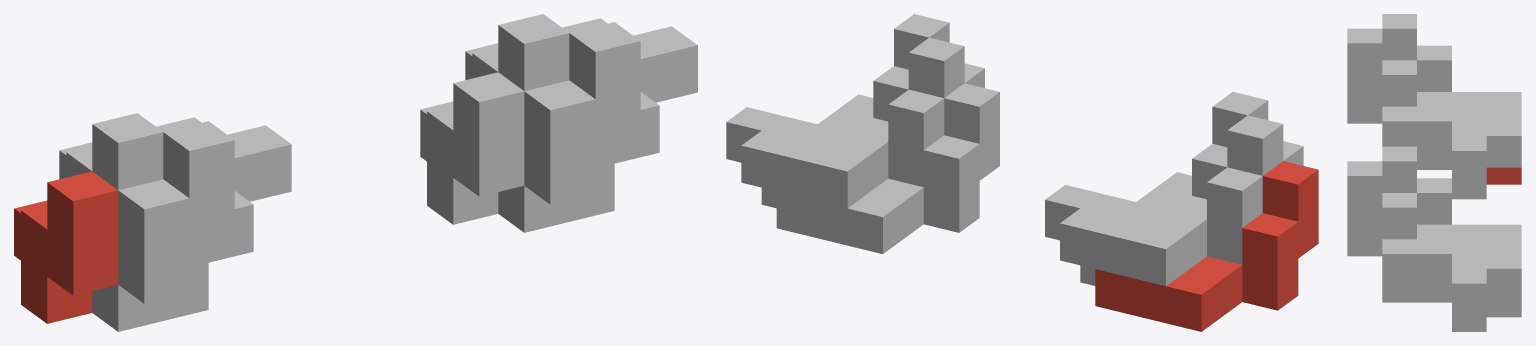
File: tiling.obj
3 views of the same model, side by side, from view 1: azimuth 30°, elevation 25°; view 2: azimuth 150°, elevation 25°; view 3: azimuth 270°, elevation 25° (orthographic). The views are drawn at different scales.
Visible parts, largest first — view 1: copy_1_domain_4, copy_1_domain_8, copy_1_domain_1, copy_1_domain_5, copy_1_domain_2, copy_1_domain_6, copy_1_domain_3, copy_1_domain_7; view 2: copy_1_domain_7, copy_1_domain_3, copy_1_domain_1, copy_1_domain_5, copy_1_domain_4, copy_1_domain_8, copy_1_domain_2, copy_1_domain_6; view 3: copy_1_domain_8, copy_1_domain_4, copy_1_domain_7, copy_1_domain_3, copy_1_domain_6, copy_1_domain_2, copy_1_domain_1, copy_1_domain_5.
Part boxes in pixels (x1,y1,x2,y2): copy_1_domain_4: (163,121,291,267); copy_1_domain_8: (569,22,697,167); copy_1_domain_1: (14,171,118,323); copy_1_domain_5: (420,72,524,224); copy_1_domain_2: (92,179,208,331); copy_1_domain_6: (498,80,614,232); copy_1_domain_3: (59,113,201,190); copy_1_domain_7: (465,14,607,91); copy_1_domain_7: (741,37,964,208); copy_1_domain_3: (1060,115,1283,286); copy_1_domain_1: (1095,161,1318,331); copy_1_domain_5: (776,83,999,253); copy_1_domain_4: (1045,92,1268,240); copy_1_domain_8: (726,14,949,162); copy_1_domain_2: (1080,141,1303,285); copy_1_domain_6: (761,63,984,208); copy_1_domain_8: (1347,161,1486,314); copy_1_domain_4: (1347,28,1486,182); copy_1_domain_7: (1382,146,1521,300); copy_1_domain_3: (1382,14,1521,167); copy_1_domain_6: (1347,239,1486,331); copy_1_domain_2: (1347,106,1486,199); copy_1_domain_1: (1486,167,1521,184); copy_1_domain_5: (1486,300,1521,317).
Bounding box in the file's own units: 15 × 4 × 5.
